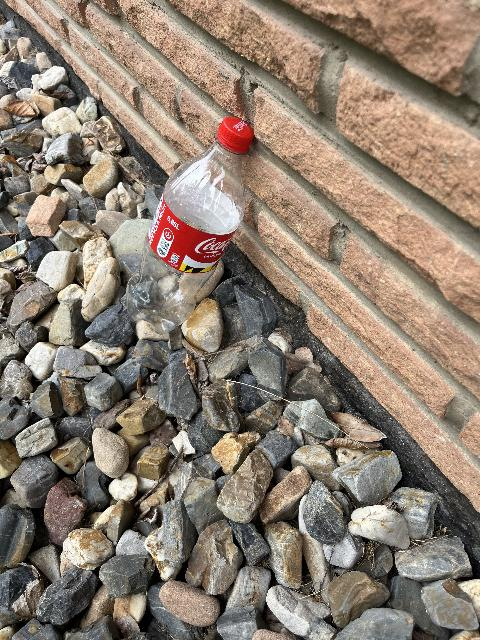plastic_bottle: (119, 115, 255, 334)
